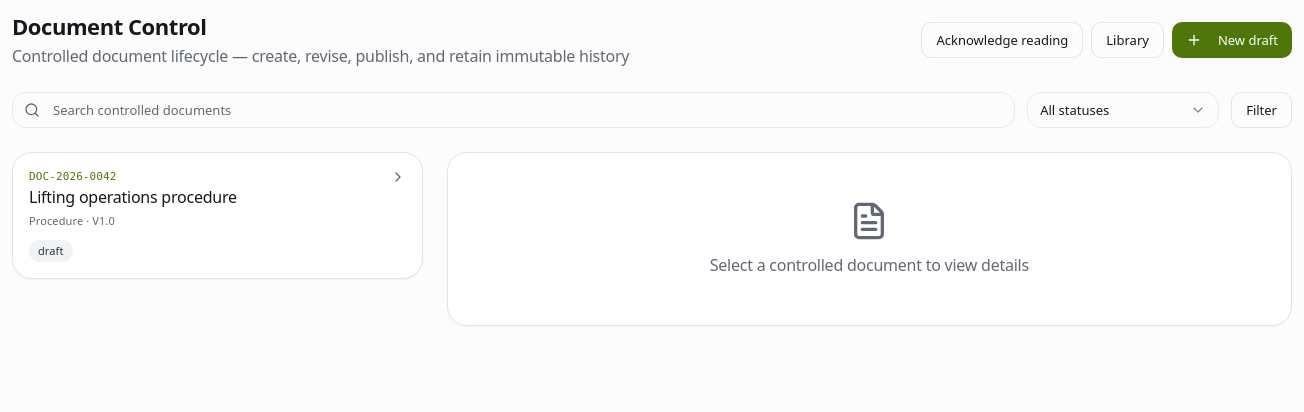
it: Document Control detail failure copy › does not invite a retry that can never succeed
The image size is (1304, 412).
Click the text "Lifting operations procedure": (133, 197) [29, 185, 237, 209]
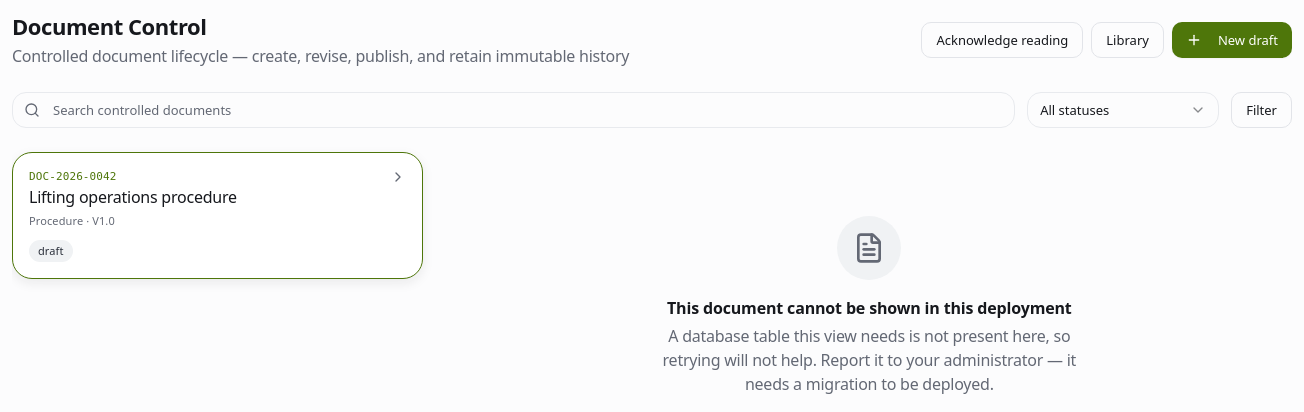
Expected: the element with test id "document-control-detail-unprovisioned" shows "retrying will not help", [662, 325, 1076, 395]
